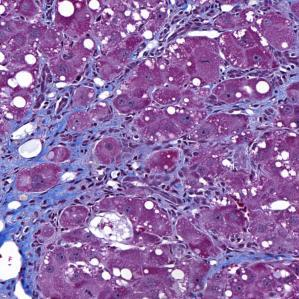fibrosis: (1, 103, 114, 176), (134, 141, 234, 218), (213, 68, 293, 123), (202, 234, 292, 282), (1, 193, 73, 252), (147, 10, 197, 44)
